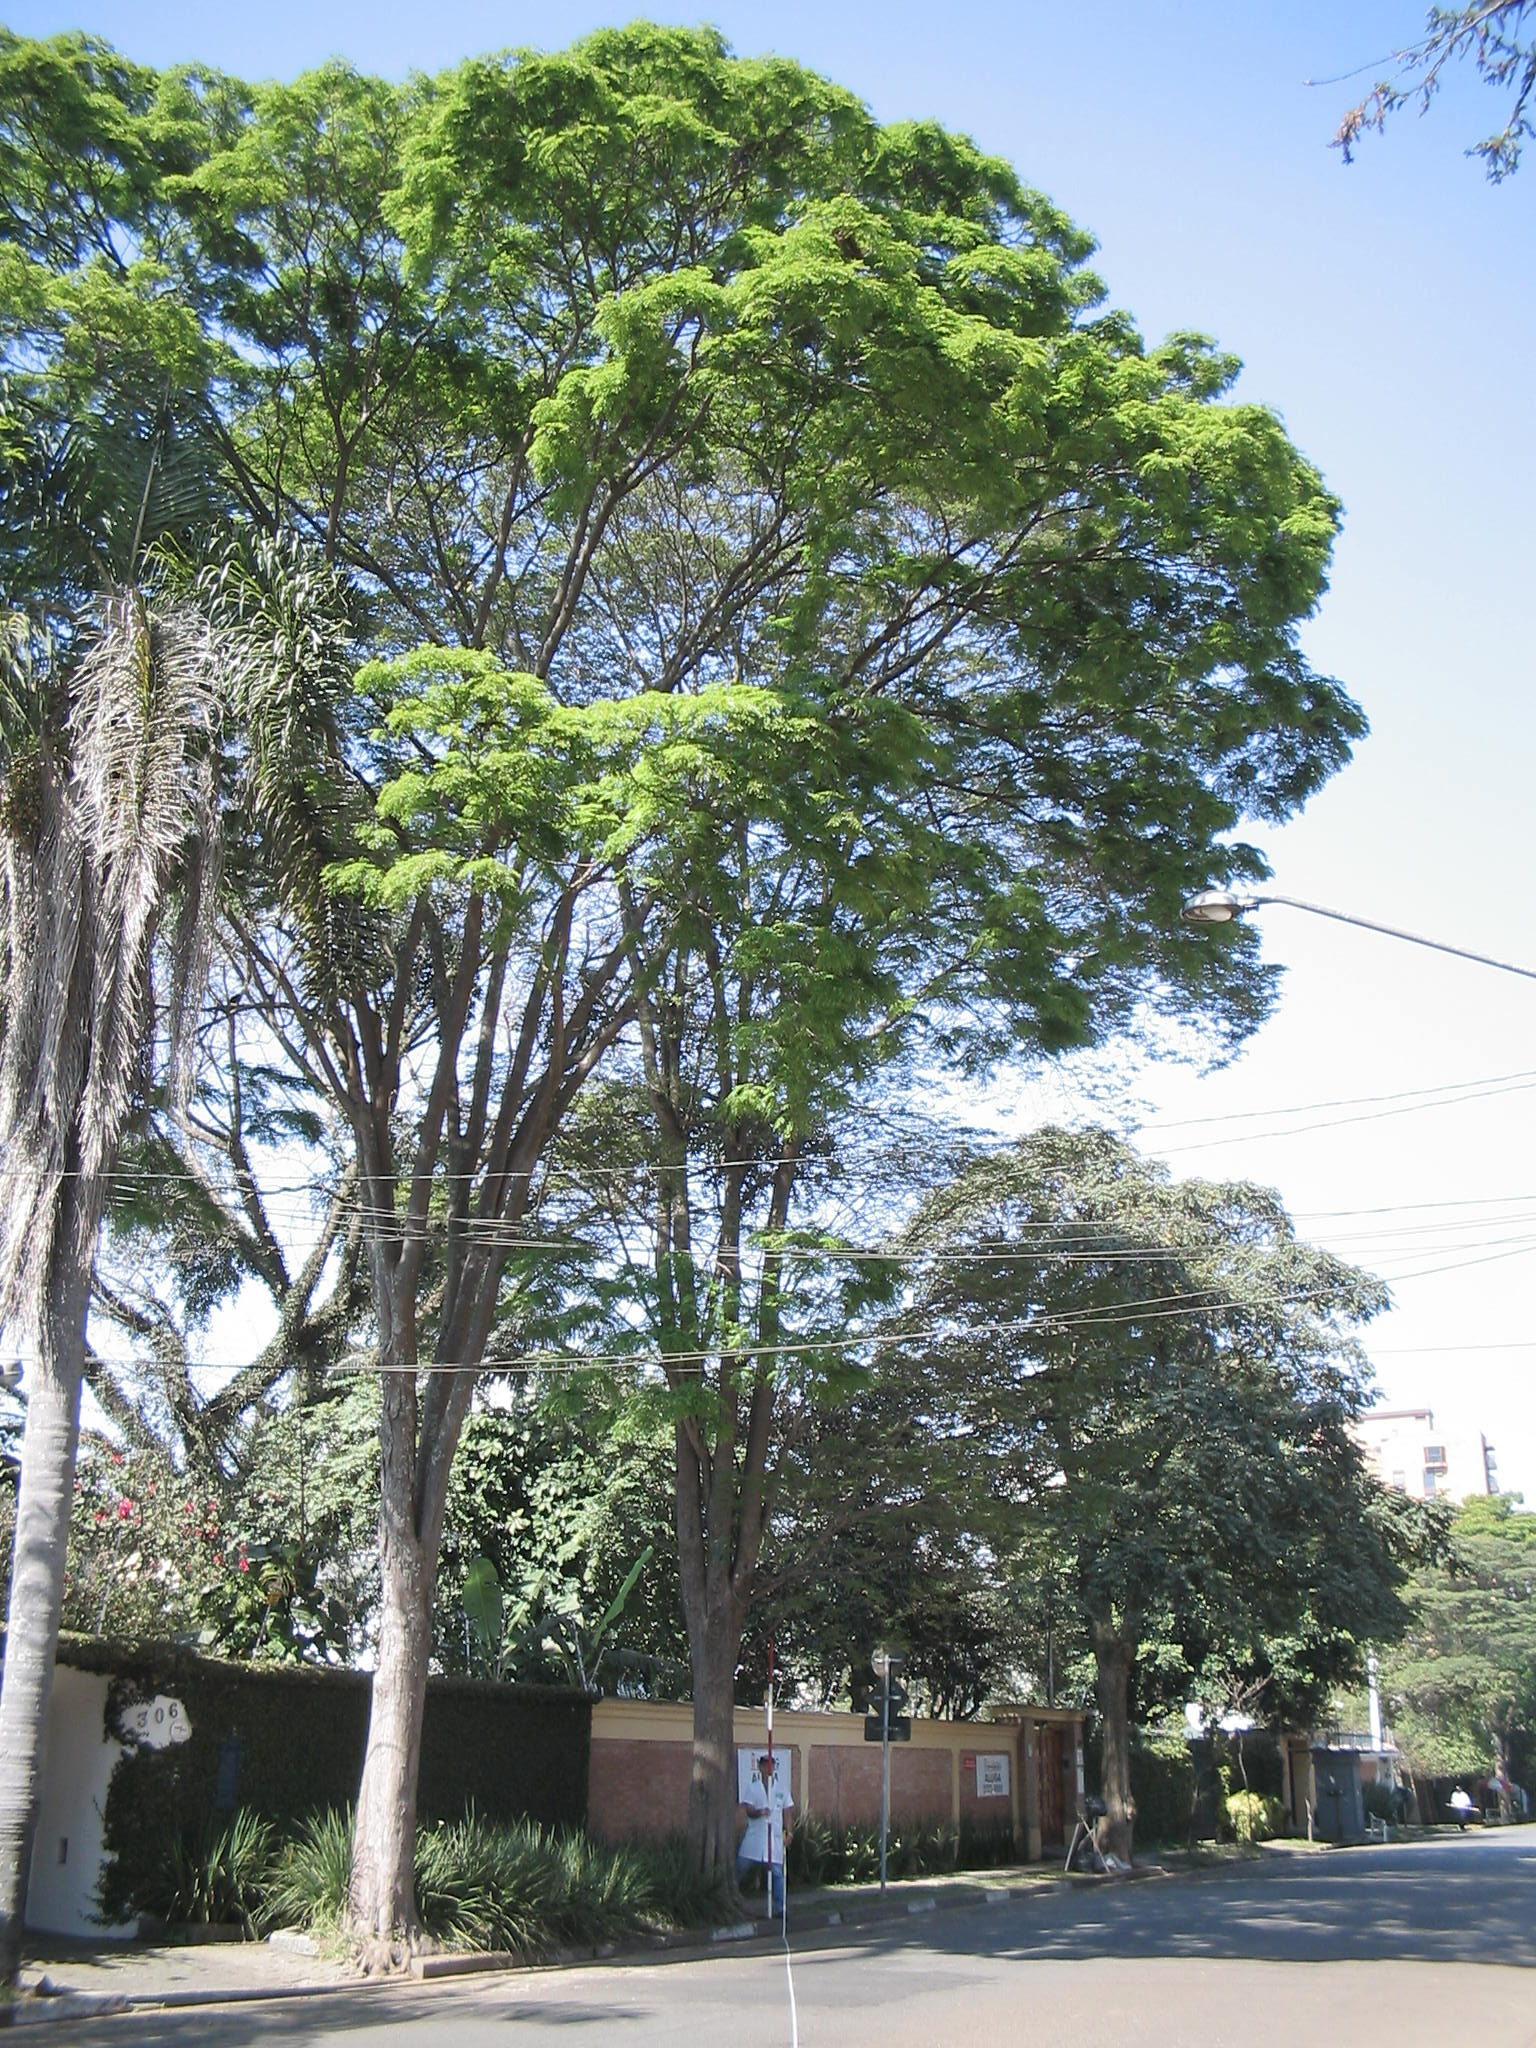crown: (168, 24, 1365, 1145), (815, 1137, 1433, 1721)
stem: (302, 1517, 465, 1953), (637, 1600, 771, 1913), (1062, 1655, 1183, 1863)
stick: (744, 1643, 792, 1916)
tree: (160, 18, 1375, 1917), (803, 1126, 1441, 1871)
